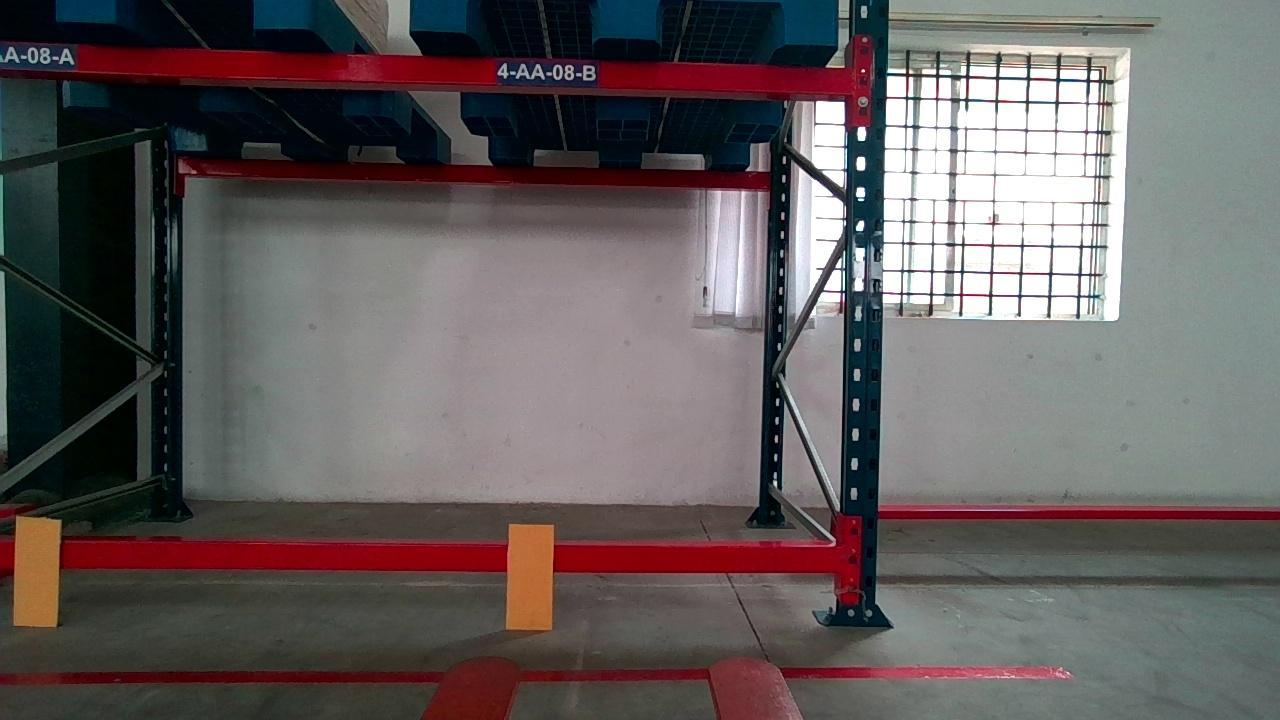h_rack: (5, 41, 854, 96), (0, 539, 835, 573)
orange_strip: (503, 524, 556, 629), (14, 517, 62, 624)
red_line: (4, 668, 1075, 684)
small_pallet: (408, 0, 840, 46), (1, 0, 336, 35)
